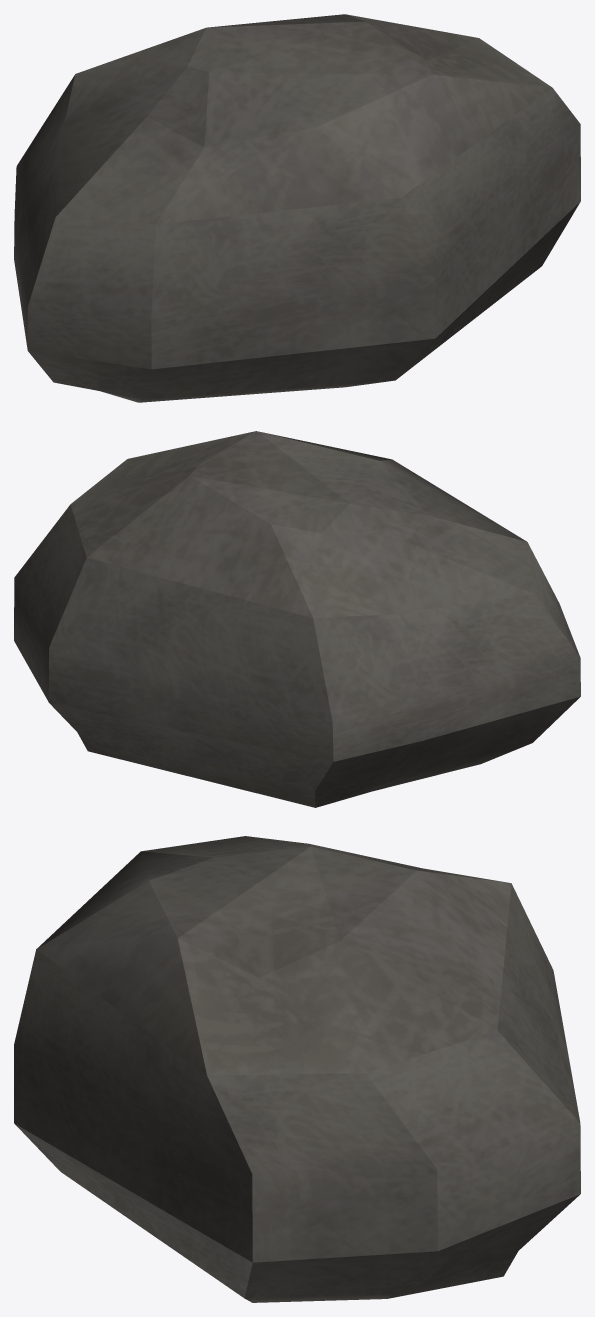
The model's file is ZachMesaRock36.fbx.
The picture shows the model from 3 angles, top to bottom: view 1: azimuth 30°, elevation 25°; view 2: azimuth 150°, elevation 25°; view 3: azimuth 270°, elevation 25°; orthographic projection. The views are drawn at different scales.
Parts seen in each view (by area): view 1: ZachMesaRock36; view 2: ZachMesaRock36; view 3: ZachMesaRock36.
Part boxes in pixels (x1=…): ZachMesaRock36: x1=14, y1=14, x2=580, y2=402; ZachMesaRock36: x1=14, y1=431, x2=580, y2=807; ZachMesaRock36: x1=14, y1=836, x2=580, y2=1302.
Bounding box in the file's own units: 4 × 1.83 × 3.02.
